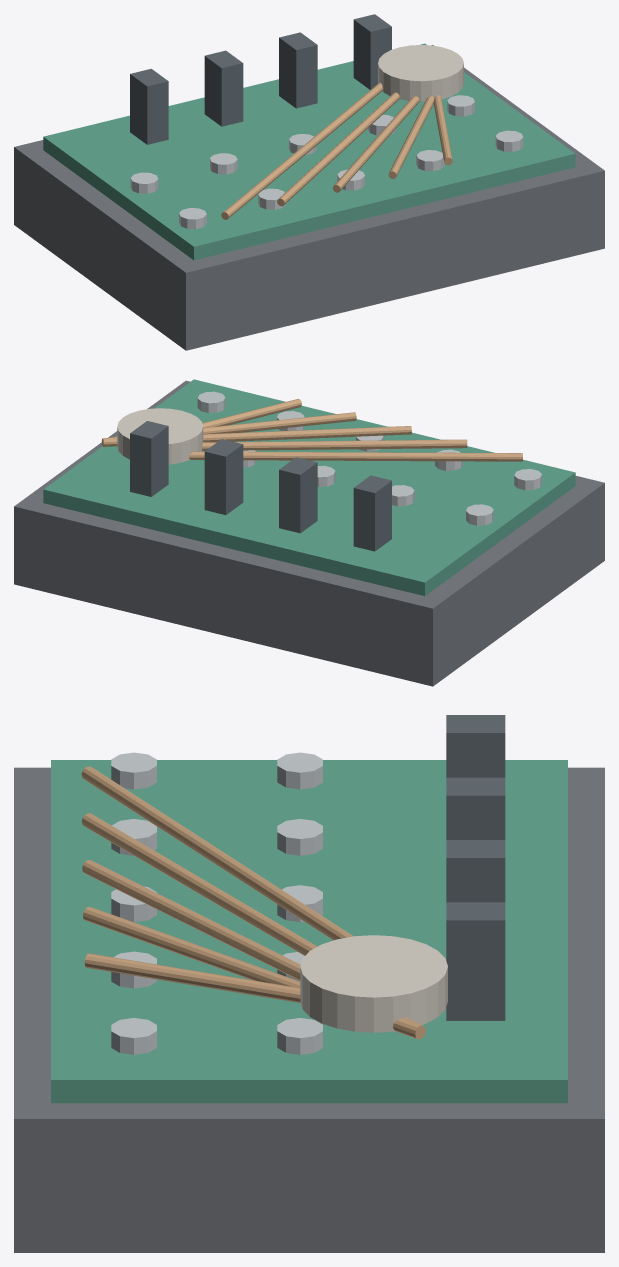
The picture shows the model from 3 angles, top to bottom: view 1: azimuth 30°, elevation 25°; view 2: azimuth 150°, elevation 25°; view 3: azimuth 270°, elevation 25°; orthographic projection. The views are drawn at different scales.
Parts seen in each view (by area): view 1: TH-021__000__Electronics trainer base, TH-021__001__Circuit prototyping top board, TH-021__016__Voltmeter circular dial, TH-021__013__Electrical toggle switch, TH-021__012__Electrical toggle switch, TH-021__014__Electrical toggle switch, TH-021__015__Electrical toggle switch, TH-021__017__Red copper jumper wire, TH-021__018__Red copper jumper wire, TH-021__019__Red copper jumper wire, TH-021__020__Red copper jumper wire, TH-021__021__Red copper jumper wire (+7 smaller); view 2: TH-021__000__Electronics trainer base, TH-021__001__Circuit prototyping top board, TH-021__016__Voltmeter circular dial, TH-021__014__Electrical toggle switch, TH-021__017__Red copper jumper wire, TH-021__013__Electrical toggle switch, TH-021__012__Electrical toggle switch, TH-021__015__Electrical toggle switch, TH-021__018__Red copper jumper wire, TH-021__019__Red copper jumper wire, TH-021__020__Red copper jumper wire, TH-021__021__Red copper jumper wire (+4 smaller); view 3: TH-021__001__Circuit prototyping top board, TH-021__000__Electronics trainer base, TH-021__016__Voltmeter circular dial, TH-021__015__Electrical toggle switch, TH-021__017__Red copper jumper wire, TH-021__018__Red copper jumper wire, TH-021__019__Red copper jumper wire, TH-021__012__Electrical toggle switch, TH-021__013__Electrical toggle switch, TH-021__014__Electrical toggle switch, TH-021__020__Red copper jumper wire, TH-021__021__Red copper jumper wire (+9 smaller).
Boxes of the visible parts, x1,y1,x2,y2 form: TH-021__000__Electronics trainer base: [14, 45, 604, 350]; TH-021__001__Circuit prototyping top board: [43, 43, 575, 260]; TH-021__016__Voltmeter circular dial: [378, 45, 463, 101]; TH-021__013__Electrical toggle switch: [204, 50, 243, 126]; TH-021__012__Electrical toggle switch: [130, 68, 168, 144]; TH-021__014__Electrical toggle switch: [279, 32, 317, 108]; TH-021__015__Electrical toggle switch: [353, 14, 391, 89]; TH-021__017__Red copper jumper wire: [221, 82, 382, 219]; TH-021__018__Red copper jumper wire: [277, 92, 399, 206]; TH-021__019__Red copper jumper wire: [333, 96, 419, 192]; TH-021__020__Red copper jumper wire: [388, 96, 434, 178]; TH-021__021__Red copper jumper wire: [433, 95, 452, 165]; TH-021__000__Electronics trainer base: [14, 380, 604, 686]; TH-021__001__Circuit prototyping top board: [43, 379, 575, 595]; TH-021__016__Voltmeter circular dial: [117, 408, 203, 464]; TH-021__014__Electrical toggle switch: [204, 439, 243, 514]; TH-021__017__Red copper jumper wire: [189, 451, 522, 461]; TH-021__013__Electrical toggle switch: [279, 457, 317, 533]; TH-021__012__Electrical toggle switch: [353, 475, 391, 551]; TH-021__015__Electrical toggle switch: [130, 421, 168, 496]; TH-021__018__Red copper jumper wire: [202, 439, 467, 450]; TH-021__019__Red copper jumper wire: [103, 426, 411, 446]; TH-021__020__Red copper jumper wire: [102, 412, 356, 445]; TH-021__021__Red copper jumper wire: [202, 399, 301, 427]; TH-021__001__Circuit prototyping top board: [51, 760, 567, 1103]; TH-021__000__Electronics trainer base: [14, 767, 604, 1252]; TH-021__016__Voltmeter circular dial: [300, 935, 447, 1032]; TH-021__015__Electrical toggle switch: [446, 902, 505, 1020]; TH-021__017__Red copper jumper wire: [81, 766, 353, 940]; TH-021__018__Red copper jumper wire: [81, 813, 317, 955]; TH-021__019__Red copper jumper wire: [82, 860, 425, 1038]; TH-021__012__Electrical toggle switch: [446, 715, 505, 777]; TH-021__013__Electrical toggle switch: [446, 777, 505, 839]; TH-021__014__Electrical toggle switch: [446, 840, 505, 902]; TH-021__020__Red copper jumper wire: [83, 906, 420, 1039]; TH-021__021__Red copper jumper wire: [84, 953, 300, 1002].
Size of the model in its own units: 0.45 by 0.155 by 0.32.
